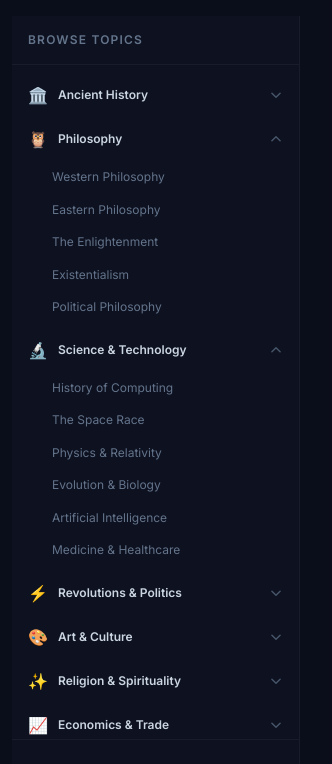
Test: Sidebar › expands a section and shows topic items when clicked
Click the button "🏛️ Ancient History": (103, 94) [12,73,299,117]
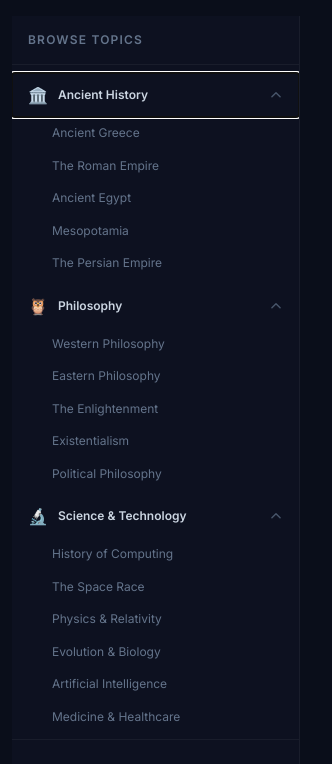
Now the text "Ancient Greece" is shown, box [52,125,140,142]
